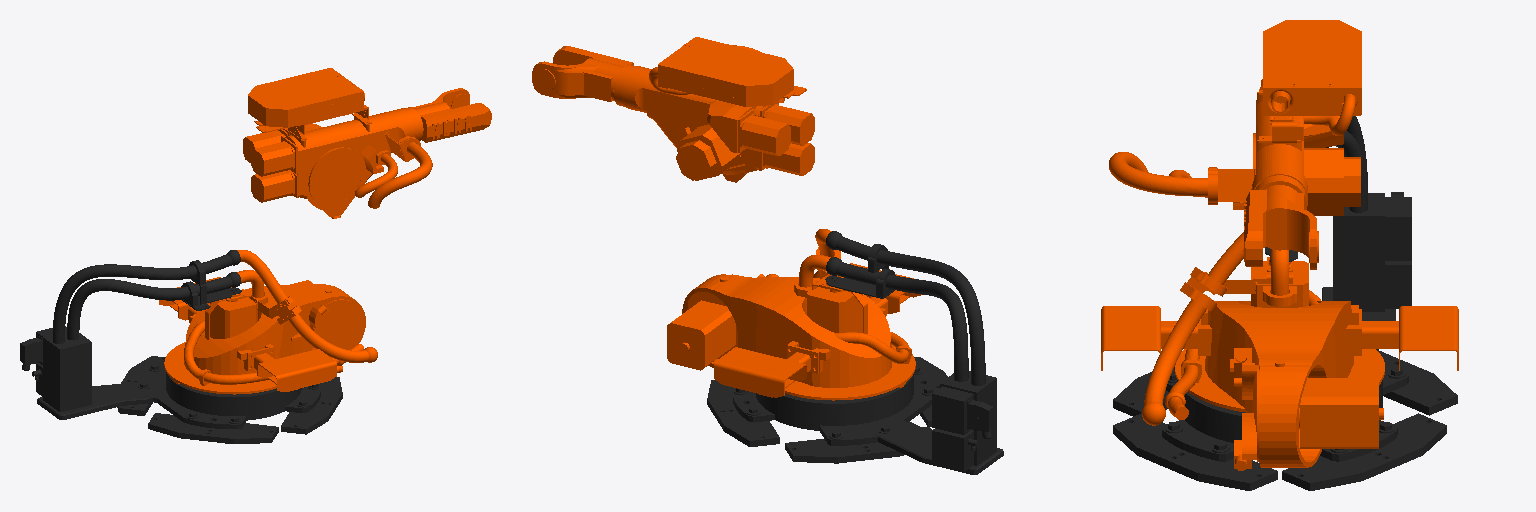
robot.urdf — kuka_kr30_4_ks:
<?xml version="1.0"?>
<robot name="kuka_kr30_4_ks">
  <material name="kuka_orange"><color rgba="1.00 0.40 0.00 1.0"/></material>
  <material name="kuka_dark_gray"><color rgba="0.20 0.20 0.20 1.0"/></material>

  <link name="base_link">
    <inertial>
      <origin xyz="-0.209662 0.068141 0.148241" rpy="0 0 0"/>
      <mass value="53.333"/>
      <inertia ixx="3.903179" ixy="1.191949" ixz="1.063637" iyy="6.855243" iyz="-0.170071" izz="6.982335"/>
    </inertial>
    <visual>
      <origin xyz="0 0 0" rpy="0 0 0"/>
      <geometry><mesh filename="meshes/visual/base_link.stl"/></geometry>
      <material name="kuka_dark_gray"/>
    </visual>
    <collision>
      <origin xyz="0 0 0" rpy="0 0 0"/>
      <geometry><mesh filename="meshes/visual/base_link.stl"/></geometry>
    </collision>
  </link>

  <link name="link_1">
    <inertial>
      <origin xyz="0.150341 -0.019658 0.302743" rpy="0 0 0"/>
      <mass value="80.700"/>
      <inertia ixx="4.122171" ixy="-0.104837" ixz="0.102028" iyy="3.749706" iyz="0.083041" izz="6.237143"/>
    </inertial>
    <visual>
      <origin xyz="0 0 0" rpy="0 0 0"/>
      <geometry><mesh filename="meshes/visual/link_1.stl"/></geometry>
      <material name="kuka_orange"/>
    </visual>
    <collision>
      <origin xyz="0 0 0" rpy="0 0 0"/>
      <geometry><mesh filename="meshes/visual/link_1.stl"/></geometry>
    </collision>
  </link>

  <link name="link_2">
    <inertial>
      <origin xyz="-0.000086 -0.251044 0.391503" rpy="0 0 0"/>
      <mass value="138.100"/>
      <inertia ixx="10.640532" ixy="-0.005787" ixz="0.027738" iyy="10.080696" iyz="0.609276" izz="1.912364"/>
    </inertial>
    <visual>
      <origin xyz="0 0 0" rpy="0 0 0"/>
      <geometry><mesh filename="meshes/visual/link_2.stl"/></geometry>
      <material name="kuka_orange"/>
    </visual>
    <collision>
      <origin xyz="0 0 0" rpy="0 0 0"/>
      <geometry><mesh filename="meshes/visual/link_2.stl"/></geometry>
    </collision>
  </link>

  <link name="link_3">
    <inertial>
      <origin xyz="-0.016985 0.009073 0.162292" rpy="0 0 0"/>
      <mass value="151.900"/>
      <inertia ixx="4.553719" ixy="0.920391" ixz="0.139460" iyy="6.068670" iyz="-0.546291" izz="5.895452"/>
    </inertial>
    <visual>
      <origin xyz="0 0 0" rpy="0 0 0"/>
      <geometry><mesh filename="meshes/visual/link_3.stl"/></geometry>
      <material name="kuka_orange"/>
    </visual>
    <collision>
      <origin xyz="0 0 0" rpy="0 0 0"/>
      <geometry><mesh filename="meshes/visual/link_3.stl"/></geometry>
    </collision>
  </link>

  <link name="link_4">
    <inertial>
      <origin xyz="-0.182562 -0.009896 -0.000183" rpy="0 0 0"/>
      <mass value="49.800"/>
      <inertia ixx="0.327413" ixy="-0.023615" ixz="0.000790" iyy="0.683355" iyz="-0.000452" izz="0.815164"/>
    </inertial>
    <visual>
      <origin xyz="0 0 0" rpy="0 0 0"/>
      <geometry><mesh filename="meshes/visual/link_4.stl"/></geometry>
      <material name="kuka_orange"/>
    </visual>
    <collision>
      <origin xyz="0 0 0" rpy="0 0 0"/>
      <geometry><mesh filename="meshes/visual/link_4.stl"/></geometry>
    </collision>
  </link>

  <link name="link_5">
    <inertial>
      <origin xyz="0.047437 0.017309 0.000057" rpy="0 0 0"/>
      <mass value="38.200"/>
      <inertia ixx="0.142504" ixy="0.023599" ixz="0.000822" iyy="0.203059" iyz="0.000159" izz="0.212852"/>
    </inertial>
    <visual>
      <origin xyz="0 0 0" rpy="0 0 0"/>
      <geometry><mesh filename="meshes/visual/link_5.stl"/></geometry>
      <material name="kuka_orange"/>
    </visual>
    <collision>
      <origin xyz="0 0 0" rpy="0 0 0"/>
      <geometry><mesh filename="meshes/visual/link_5.stl"/></geometry>
    </collision>
  </link>

  <link name="link_6">
    <inertial>
      <origin xyz="-0.003920 -0.000501 0.000567" rpy="0 0 0"/>
      <mass value="20.400"/>
      <inertia ixx="0.052539" ixy="0.000000" ixz="0.000024" iyy="0.036800" iyz="-0.000003" izz="0.036478"/>
    </inertial>
    <visual>
      <origin xyz="0 0 0" rpy="0 0 0"/>
      <geometry><mesh filename="meshes/visual/link_6.stl"/></geometry>
      <material name="kuka_dark_gray"/>
    </visual>
    <collision>
      <origin xyz="0 0 0" rpy="0 0 0"/>
      <geometry><mesh filename="meshes/visual/link_6.stl"/></geometry>
    </collision>
  </link>

  <link name="tool0"/>

  <joint name="joint_a1" type="revolute">
    <parent link="base_link"/>
    <child link="link_1"/>
    <origin xyz="0.000000 0.000000 0.000000" rpy="0 0 0"/>
    <axis xyz="0.0 0.0 -1.0"/>
    <limit lower="-2.617994" upper="2.617994" effort="4250.0" velocity="2.648794"/>
    <dynamics damping="5.0" friction="1.0"/>
  </joint>

  <joint name="joint_a2" type="revolute">
    <parent link="link_1"/>
    <child link="link_2"/>
    <origin xyz="0.550000 0.000000 0.250000" rpy="0 0 0"/>
    <axis xyz="0.0 1.0 0.0"/>
    <limit lower="-0.261799" upper="2.879793" effort="4250.0" velocity="2.633304"/>
    <dynamics damping="5.0" friction="1.0"/>
  </joint>

  <joint name="joint_a3" type="revolute">
    <parent link="link_2"/>
    <child link="link_3"/>
    <origin xyz="0.000000 0.000000 0.850000" rpy="0 0 0"/>
    <axis xyz="0.0 1.0 0.0"/>
    <limit lower="-3.665191" upper="1.186824" effort="4250.0" velocity="3.193581"/>
    <dynamics damping="5.0" friction="1.0"/>
  </joint>

  <joint name="joint_a4" type="revolute">
    <parent link="link_3"/>
    <child link="link_4"/>
    <origin xyz="0.820000 0.000000 0.145000" rpy="0 0 0"/>
    <axis xyz="-1.0 0.0 -0.0"/>
    <limit lower="-6.108652" upper="6.108652" effort="300.0" velocity="5.511981"/>
    <dynamics damping="5.0" friction="1.0"/>
  </joint>

  <joint name="joint_a5" type="revolute">
    <parent link="link_4"/>
    <child link="link_5"/>
    <origin xyz="0.000000 0.000000 0.000000" rpy="0 0 0"/>
    <axis xyz="0.0 1.0 0.0"/>
    <limit lower="-2.076942" upper="2.076942" effort="380.0" velocity="5.200084"/>
    <dynamics damping="5.0" friction="1.0"/>
  </joint>

  <joint name="joint_a6" type="revolute">
    <parent link="link_5"/>
    <child link="link_6"/>
    <origin xyz="0.170000 0.000000 0.000000" rpy="0 0 0"/>
    <axis xyz="-1.0 0.0 -0.0"/>
    <limit lower="-6.108652" upper="6.108652" effort="200.0" velocity="6.837075"/>
    <dynamics damping="5.0" friction="1.0"/>
  </joint>

  <joint name="link_6-tool0" type="fixed">
    <parent link="link_6"/>
    <child link="tool0"/>
    <origin xyz="0.000000 0.000000 0.000000" rpy="0 1.57079632679 0"/>
  </joint>
</robot>

--- Facts derived from the render (not from the file) ---
The picture shows the robot from 3 angles, left to right: view 1: azimuth 30°, elevation 25°; view 2: azimuth 150°, elevation 25°; view 3: azimuth 270°, elevation 25°; orthographic projection.
Robot: kuka_kr30_4_ks — 8 links, 7 joints (6 revolute, 1 fixed); root link base_link; default pose: every joint at zero.
Links seen in each view (by area): view 1: base_link, link_1, link_3, link_4; view 2: base_link, link_1, link_3, link_4; view 3: link_1, base_link, link_3, link_4.
Link boxes in pixels (bbox=[...]): base_link: bbox=[20, 250, 342, 443]; link_1: bbox=[159, 250, 377, 394]; link_3: bbox=[243, 68, 432, 218]; link_4: bbox=[397, 88, 491, 142]; base_link: bbox=[707, 231, 1003, 474]; link_1: bbox=[667, 229, 921, 400]; link_3: bbox=[631, 37, 814, 182]; link_4: bbox=[532, 46, 644, 110]; link_1: bbox=[1101, 232, 1458, 470]; base_link: bbox=[1113, 116, 1457, 490]; link_3: bbox=[1109, 20, 1361, 215]; link_4: bbox=[1243, 169, 1318, 269].
Size in the robot's own frame: 2.44 by 1.19 by 1.56 metres.
Meshes: 7 distinct files referenced, 4 mesh visuals loaded (4 binary STL); not drawn: 3 (reference not matched to a file when rendering).
